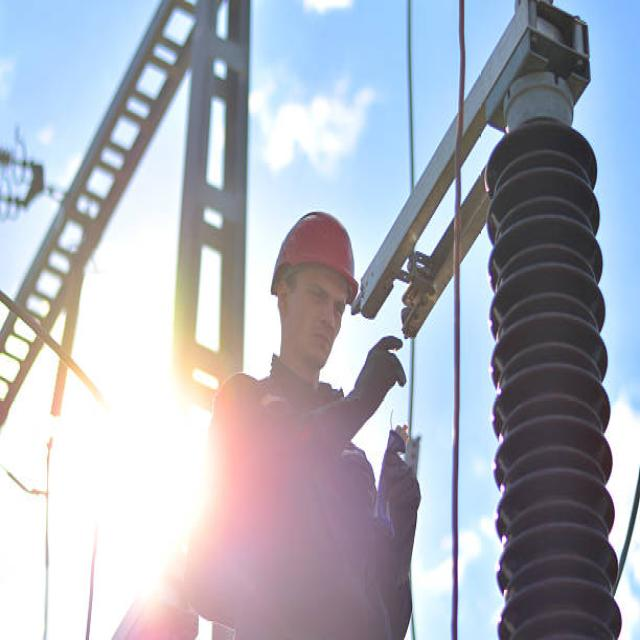Gloves: (320, 329, 410, 444), (377, 440, 422, 589)
helmet: (267, 210, 363, 302)
person: (186, 209, 421, 640)
